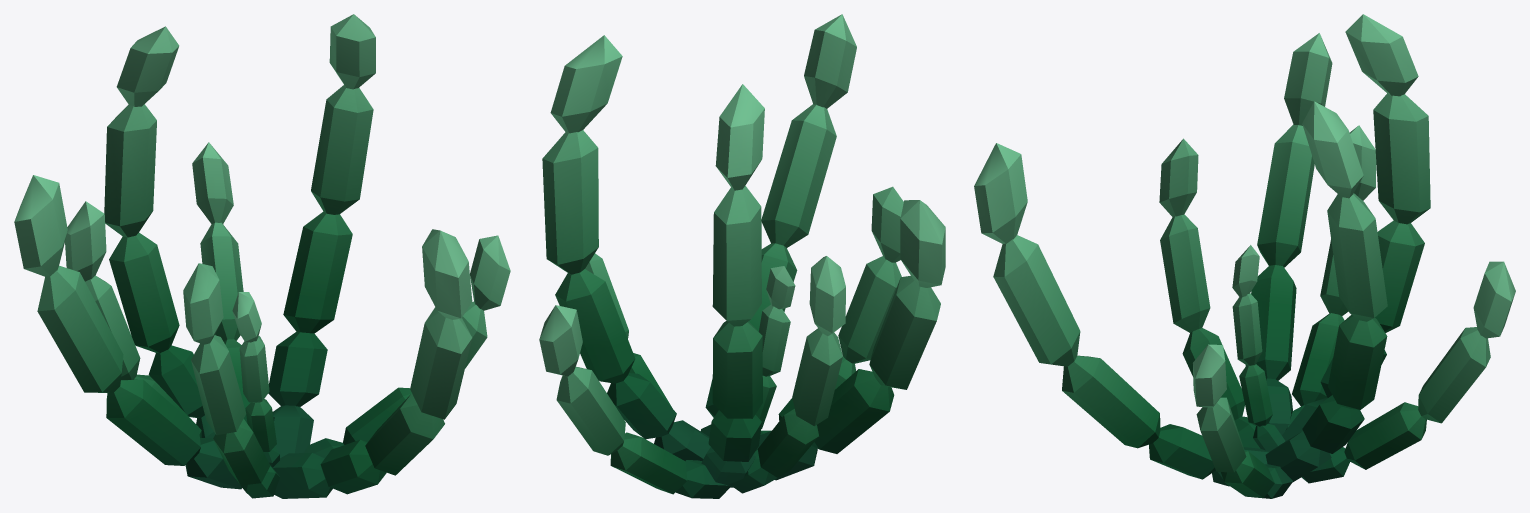
Rendered from Desert_Plant_09_Small_0_1.fbx.
The picture shows the model from 3 angles, left to right: view 1: azimuth 30°, elevation 25°; view 2: azimuth 150°, elevation 25°; view 3: azimuth 270°, elevation 25°; orthographic projection. The views are drawn at different scales.
Visible parts, largest first — view 1: Desert_plant_005.001; view 2: Desert_plant_005.001; view 3: Desert_plant_005.001.
Part boxes in pixels (box(x1,y1,x2,y2)): Desert_plant_005.001: box(14, 14, 510, 498); Desert_plant_005.001: box(539, 14, 945, 498); Desert_plant_005.001: box(974, 14, 1515, 498).
Bounding box in the file's own units: 374 × 367 × 408.
